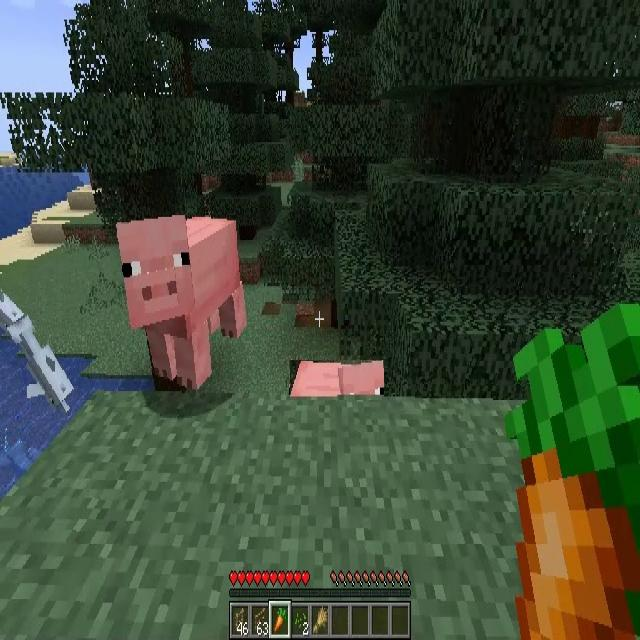flower: (290, 360, 384, 400)
pig: (117, 219, 250, 388)
